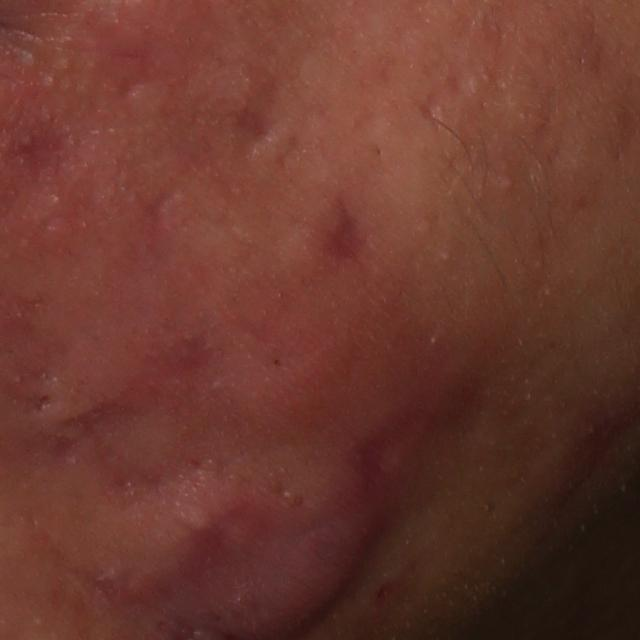atrophic_scar: (43, 336, 210, 507), (321, 190, 381, 264), (414, 87, 444, 134)
